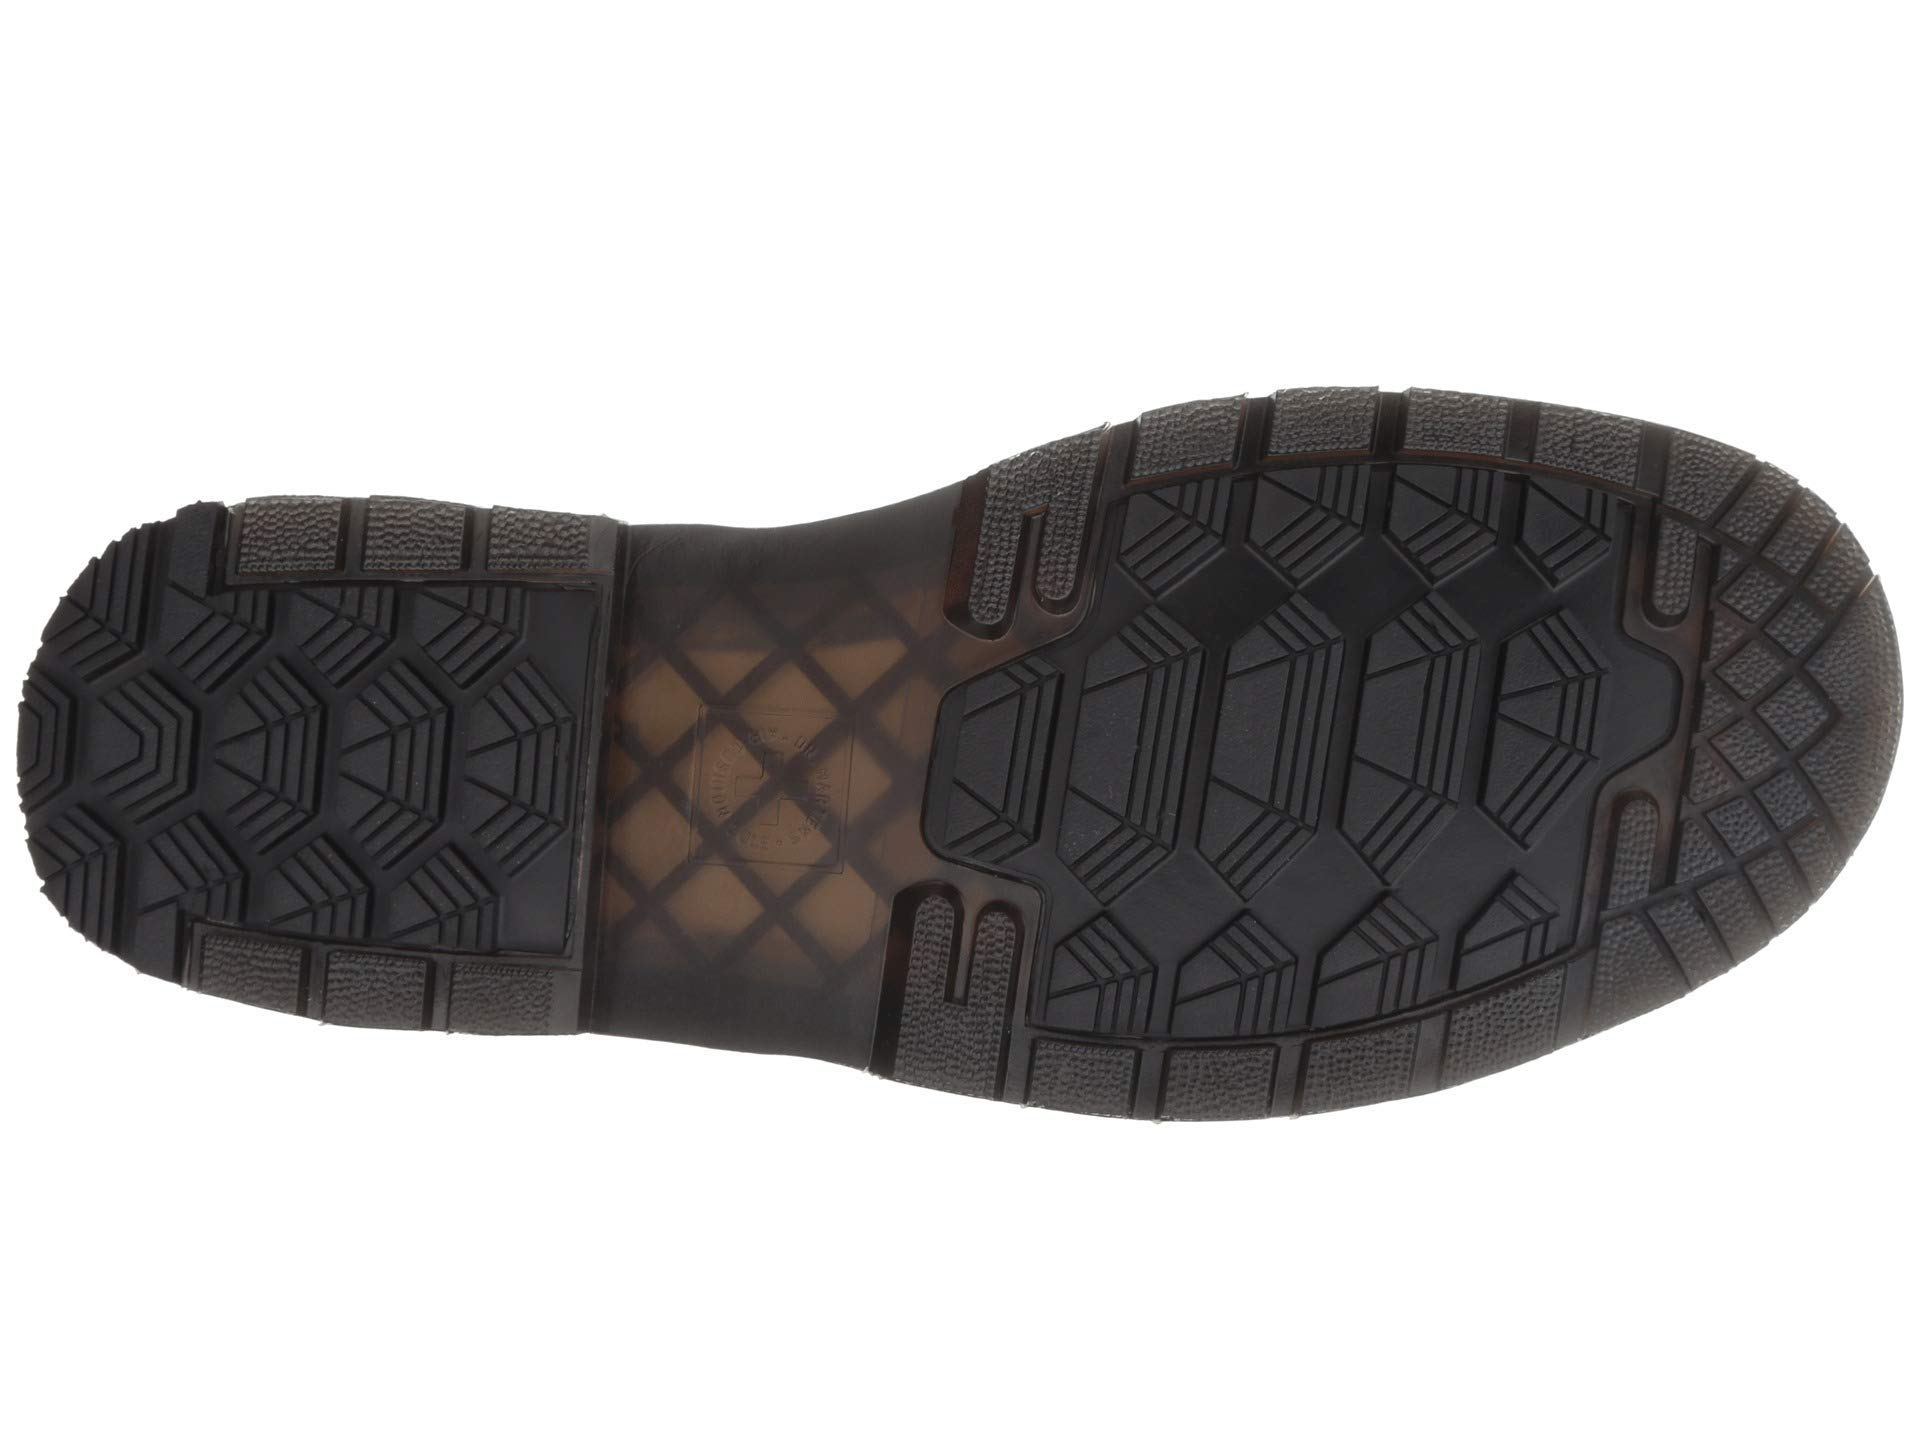exclude: (578, 457, 983, 1080)
quad: (163, 508, 587, 1042), (921, 590, 1603, 856), (1116, 414, 1645, 591), (1036, 900, 1566, 1057), (1689, 538, 1829, 902)
triangle: (163, 508, 587, 1042), (921, 590, 1603, 856), (1116, 414, 1645, 591), (1036, 900, 1566, 1057), (1689, 538, 1829, 902)
